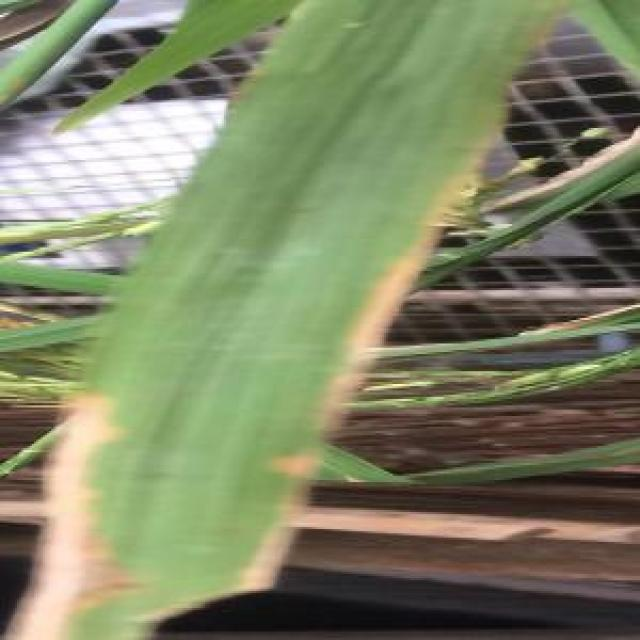Bacterial_Blight: (242, 172, 469, 595), (0, 381, 139, 640)
